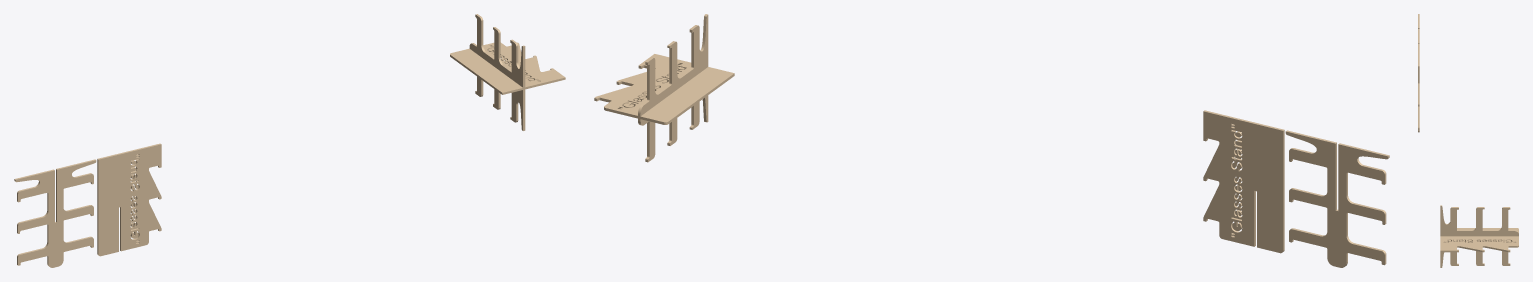
File: stand-flat-parts.glb
3 views of the same model, side by side, from view 1: azimuth 30°, elevation 25°; view 2: azimuth 150°, elevation 25°; view 3: azimuth 270°, elevation 25° (orthographic). The views are drawn at different scales.
Parts seen in each view (by area): view 1: finalnoseflat1, finalbranchflat1, finalnoseflat2, finalbranchflat3; view 2: finalnoseflat1, finalbranchflat1, finalnoseflat2, finalbranchflat3; view 3: finalbranchflat3, finalnoseflat2, finalnoseflat1.
Part boxes in pixels (x1,y1,x2,y2): finalnoseflat1: [97, 143, 161, 256]; finalbranchflat1: [14, 159, 96, 267]; finalnoseflat2: [450, 42, 565, 94]; finalbranchflat3: [469, 14, 525, 130]; finalnoseflat1: [1203, 110, 1284, 253]; finalbranchflat1: [1285, 130, 1389, 267]; finalnoseflat2: [594, 54, 734, 124]; finalbranchflat3: [638, 14, 708, 162]; finalbranchflat3: [1440, 205, 1518, 267]; finalnoseflat2: [1440, 228, 1518, 252]; finalnoseflat1: [1418, 43, 1419, 132].
Bounding box in the file's own units: 1.12 × 0.1839 × 0.2358.
